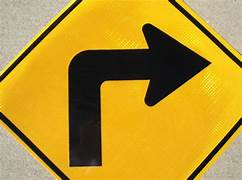right: (4, 1, 237, 180)
